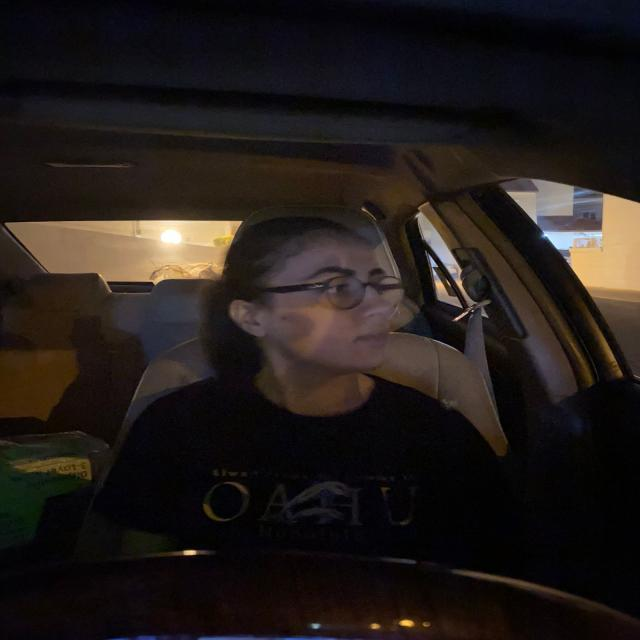LeftRight: (210, 208, 411, 398)
